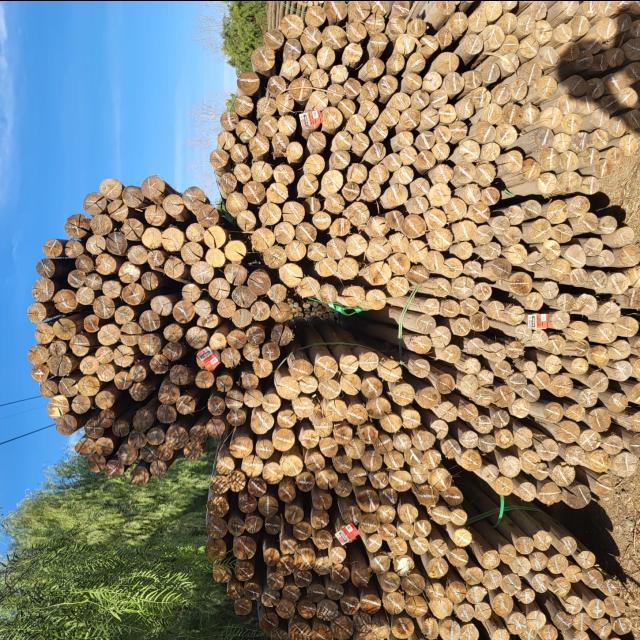package: (214, 0, 494, 313), (26, 174, 290, 486), (208, 352, 474, 640), (410, 198, 640, 517), (430, 0, 640, 194), (413, 527, 640, 640)
